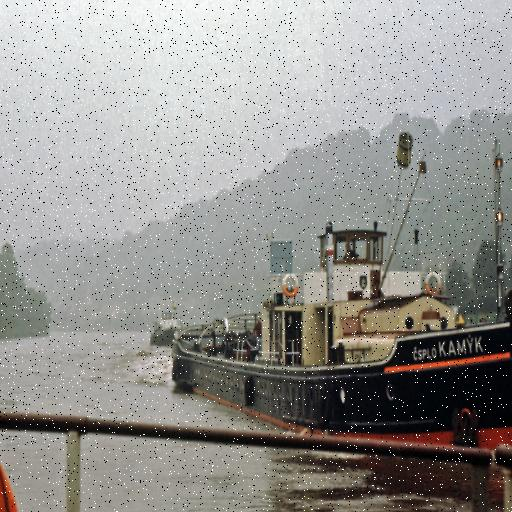tugboat: (166, 121, 512, 480)
